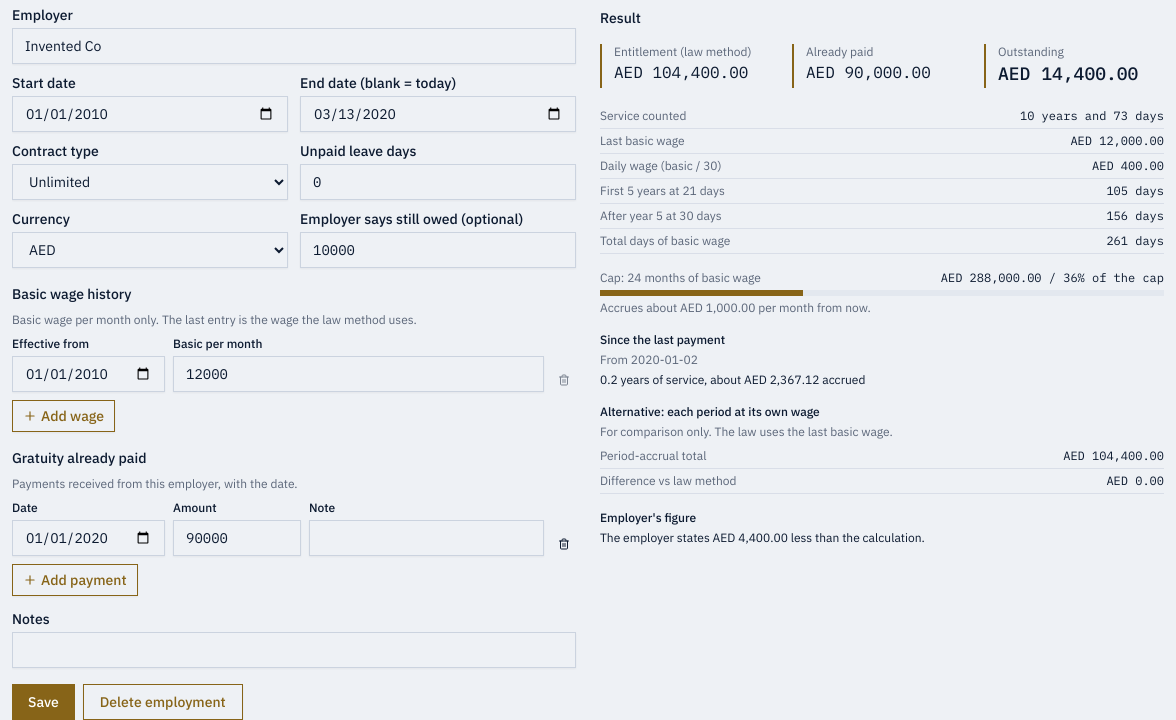
GratuityManager › saves an edited plan through the action
(page scrolled)
Step 1. Click the button "Save" → (43, 702), box [12,684,75,719]
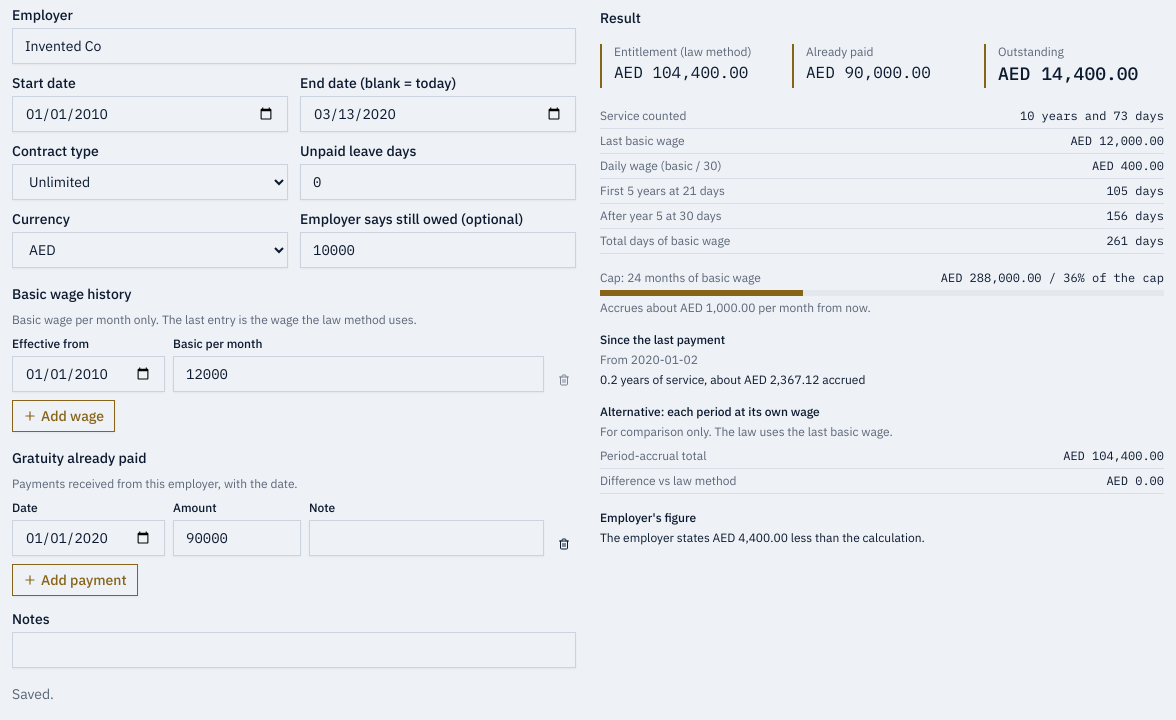
Now the text "Saved." is shown, box [12,685,54,703]
